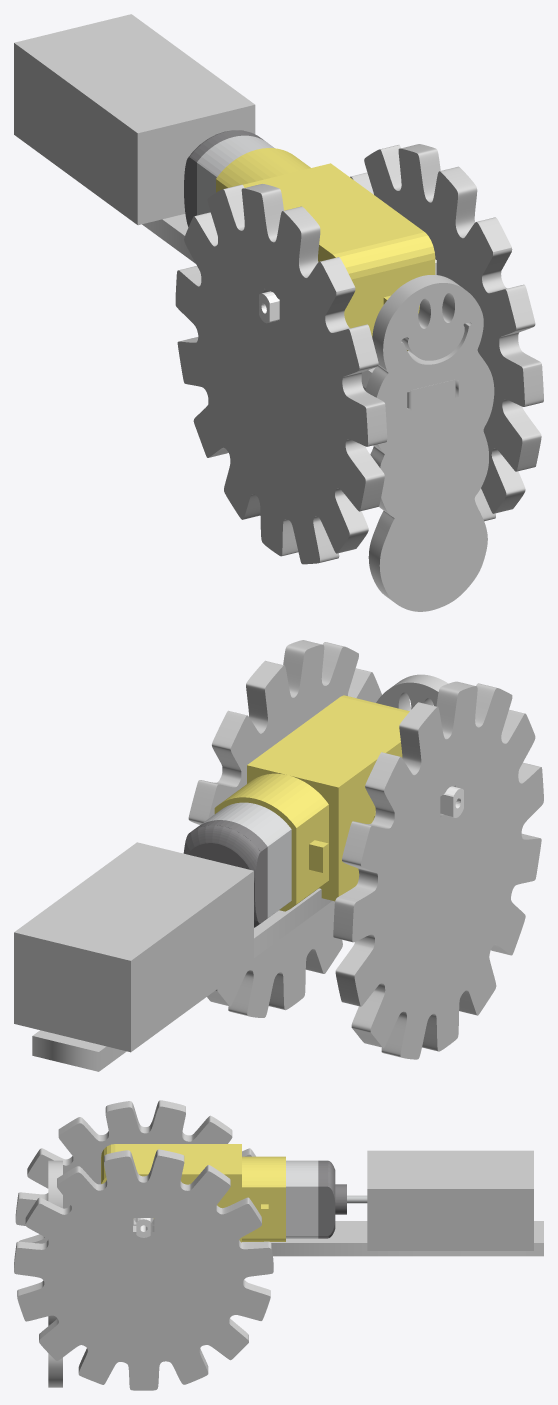
The model's file is tırtıl.glb.
3 views of the same model, one above another, from view 1: azimuth 30°, elevation 25°; view 2: azimuth 150°, elevation 25°; view 3: azimuth 270°, elevation 25° (orthographic). The views are drawn at different scales.
Parts seen in each view (by area): view 1: parca_07, parca_01, parca_04, parca_08, parca_03, parca_02; view 2: parca_07, parca_04, parca_03, parca_08, parca_02, parca_01; view 3: parca_08, parca_04, parca_03, parca_07, parca_02, parca_01.
Boxes of the visible parts, x1,y1,x2,y2 form: parca_07: (175, 184, 387, 564); parca_01: (365, 275, 494, 611); parca_04: (14, 14, 255, 225); parca_08: (350, 144, 543, 521); parca_03: (184, 130, 436, 350); parca_02: (142, 214, 455, 410); parca_07: (333, 681, 543, 1059); parca_04: (14, 842, 253, 1052); parca_03: (183, 695, 463, 927); parca_08: (188, 640, 381, 1017); parca_02: (32, 888, 332, 1071); parca_01: (376, 674, 448, 711); parca_08: (14, 1149, 273, 1390); parca_04: (367, 1150, 533, 1250); parca_03: (101, 1144, 367, 1242); parca_07: (15, 1100, 255, 1282); parca_02: (242, 1221, 543, 1256); parca_01: (48, 1160, 62, 1387).
Size of the model in its own units: 0.0392 by 0.0762 by 0.1429.
